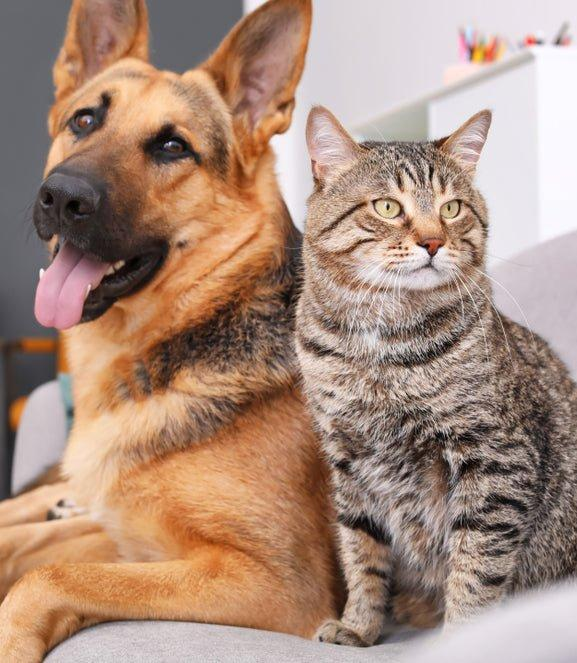cat: (300, 111, 565, 625)
dog: (2, 4, 318, 626)
